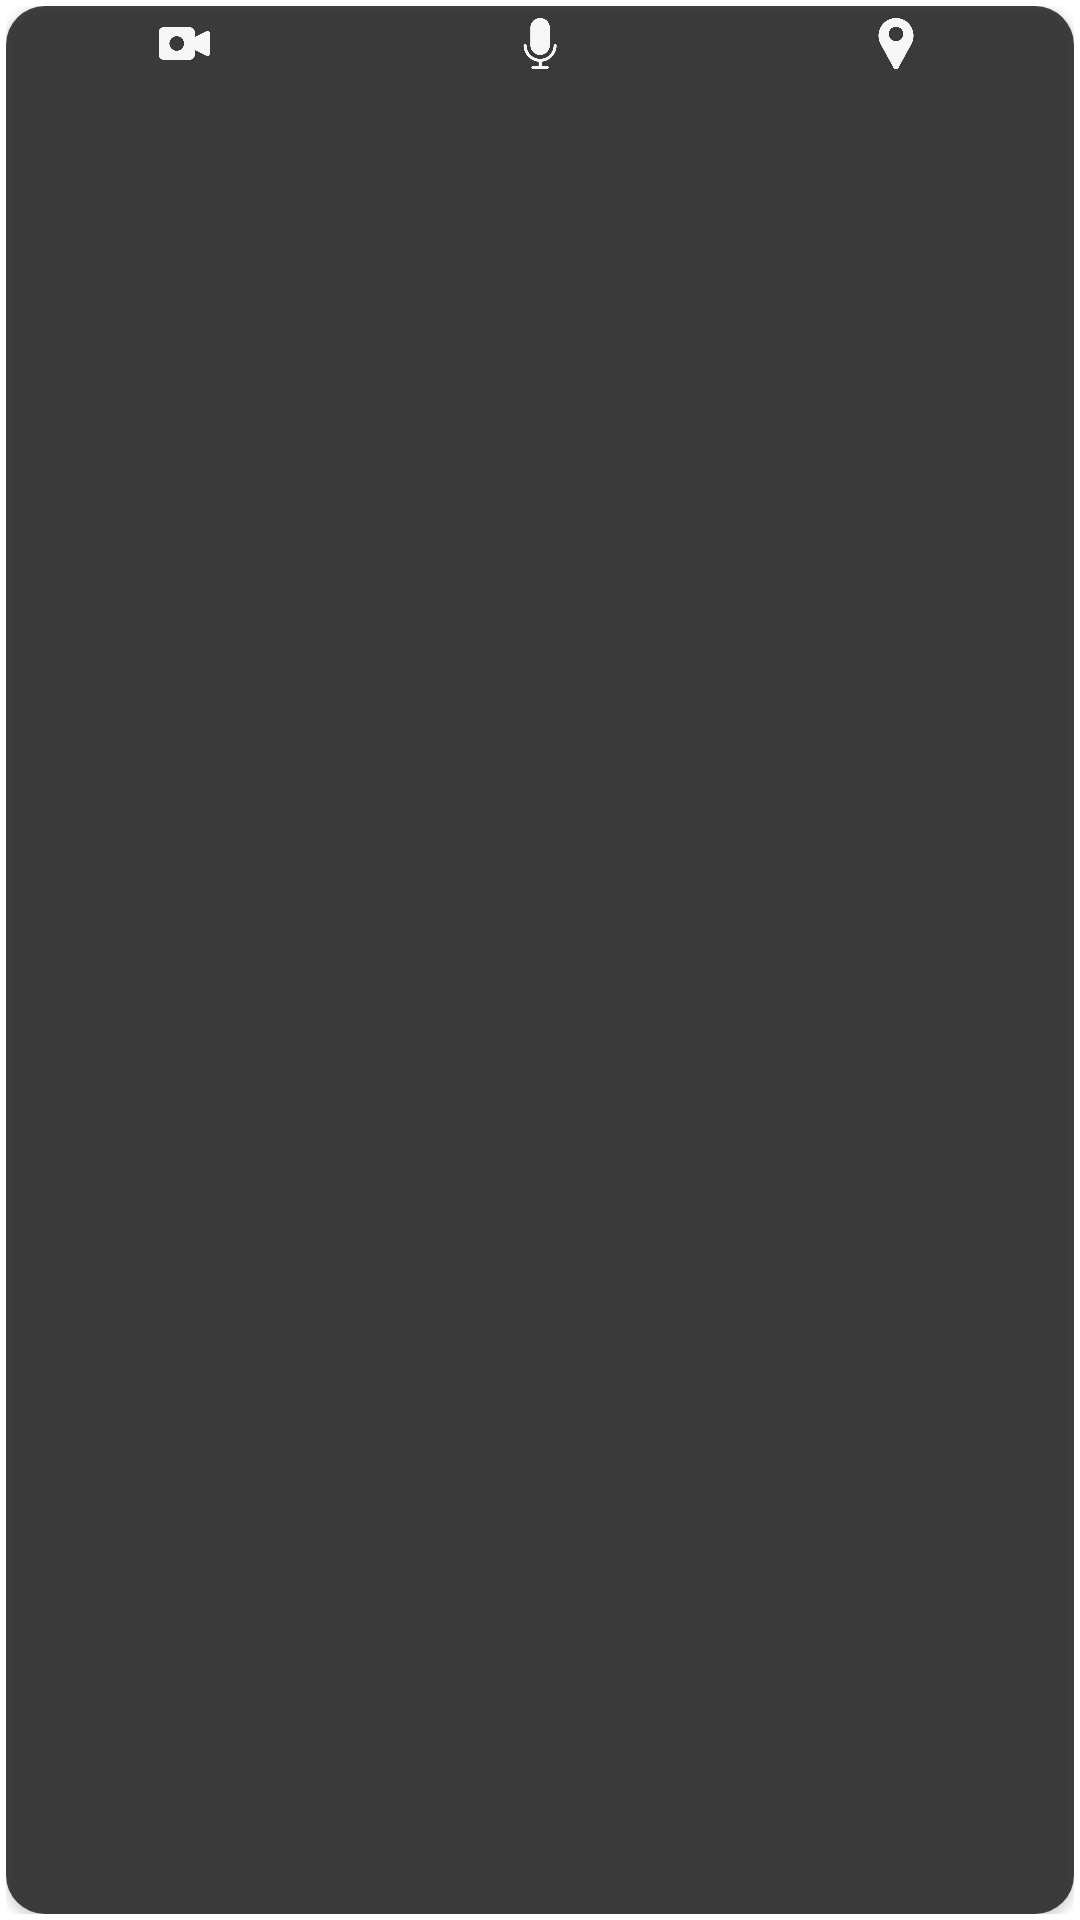

Named icons in this screenshot (1080 x 1920) and their centers, (x=x, y=y):
camera indicator: (x=184, y=43)
location indicator: (x=896, y=43)
microphone indicator: (x=540, y=43)
